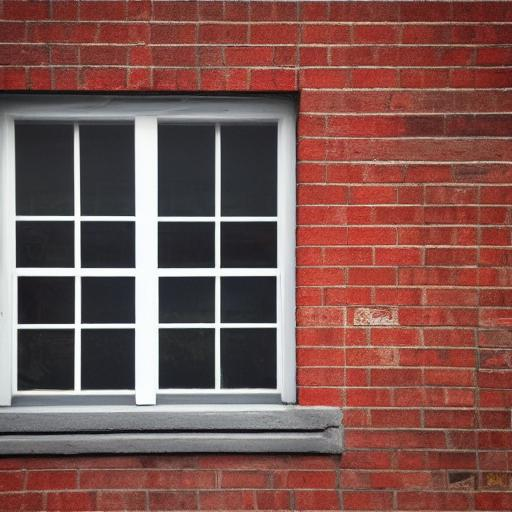Window: (2, 86, 344, 457)
